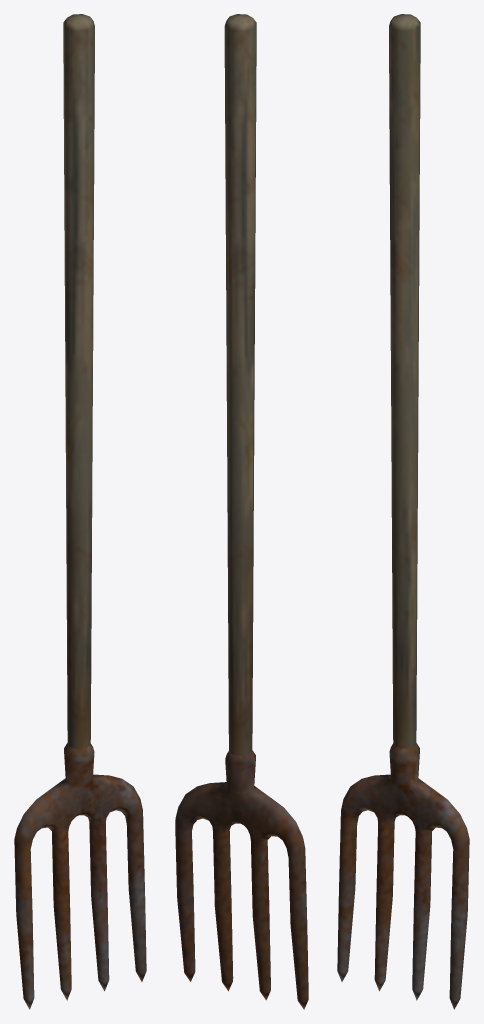
File: village_forks.fbx
The picture shows the model from 3 angles, left to right: view 1: azimuth 30°, elevation 25°; view 2: azimuth 150°, elevation 25°; view 3: azimuth 330°, elevation 25°; orthographic projection.
Visible parts, largest first — view 1: village_forks; view 2: village_forks; view 3: village_forks.
Part boxes in pixels (x1,y1,x2,y2): village_forks: (14,14,146,1009); village_forks: (175,14,308,1009); village_forks: (337,14,469,1009).
Size of the model in its own units: 21.66 by 157 by 4.95.
